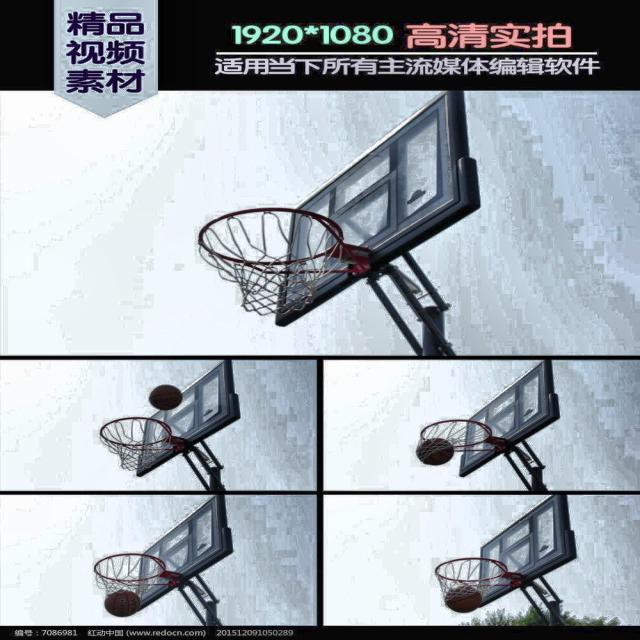rim: (198, 206, 340, 316), (100, 415, 169, 472)
